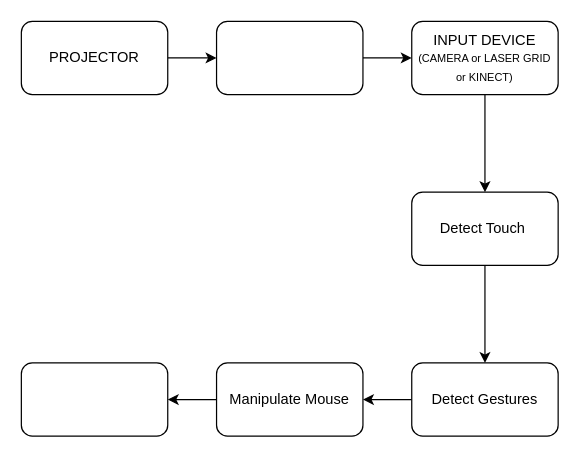
Image size: 580x458. Some labels were removed from this diagram. Each missing label, with the box of its shape:
Interact with other Sofwares: (20, 362, 168, 436)
PROJECTED IMAGE: (215, 20, 363, 95)
